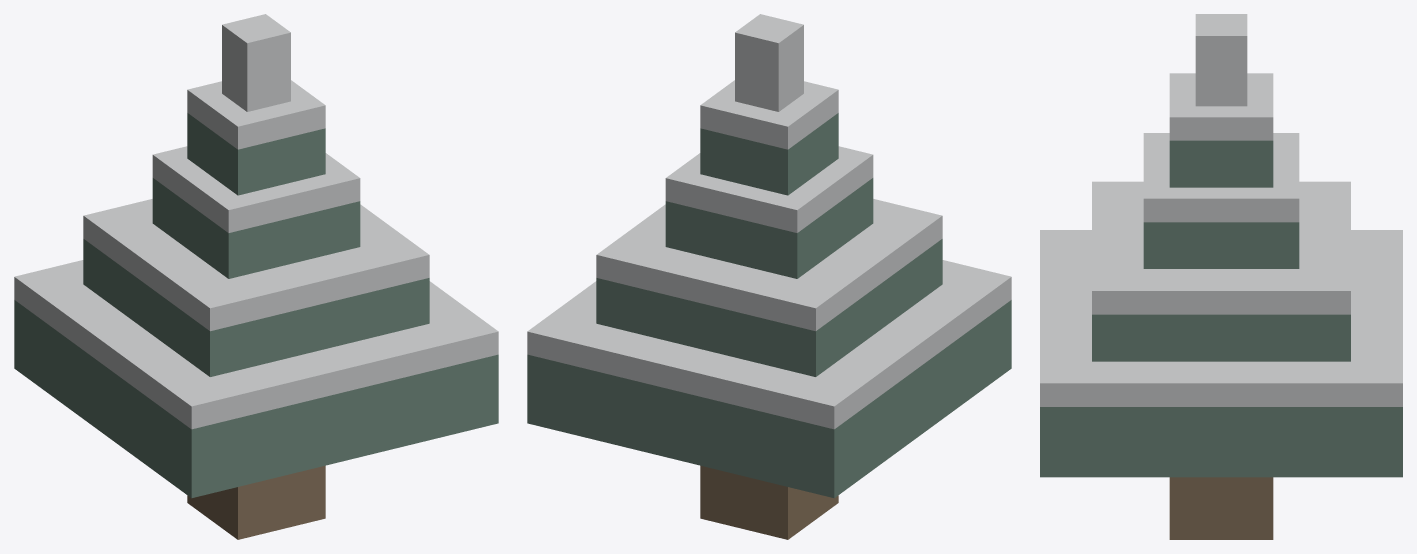
Rendered from pino_nevado_01.glb.
The picture shows the model from 3 angles, left to right: view 1: azimuth 30°, elevation 25°; view 2: azimuth 150°, elevation 25°; view 3: azimuth 270°, elevation 25°; orthographic projection. The views are drawn at different scales.
Visible parts, largest first — view 1: pino_nevado_01; view 2: pino_nevado_01; view 3: pino_nevado_01.
Boxes of the visible parts, <box> form: pino_nevado_01: <box>14,14,498,539</box>; pino_nevado_01: <box>527,14,1011,539</box>; pino_nevado_01: <box>1040,14,1402,539</box>.
Size of the model in its own units: 1.4 by 2.1 by 1.4.
